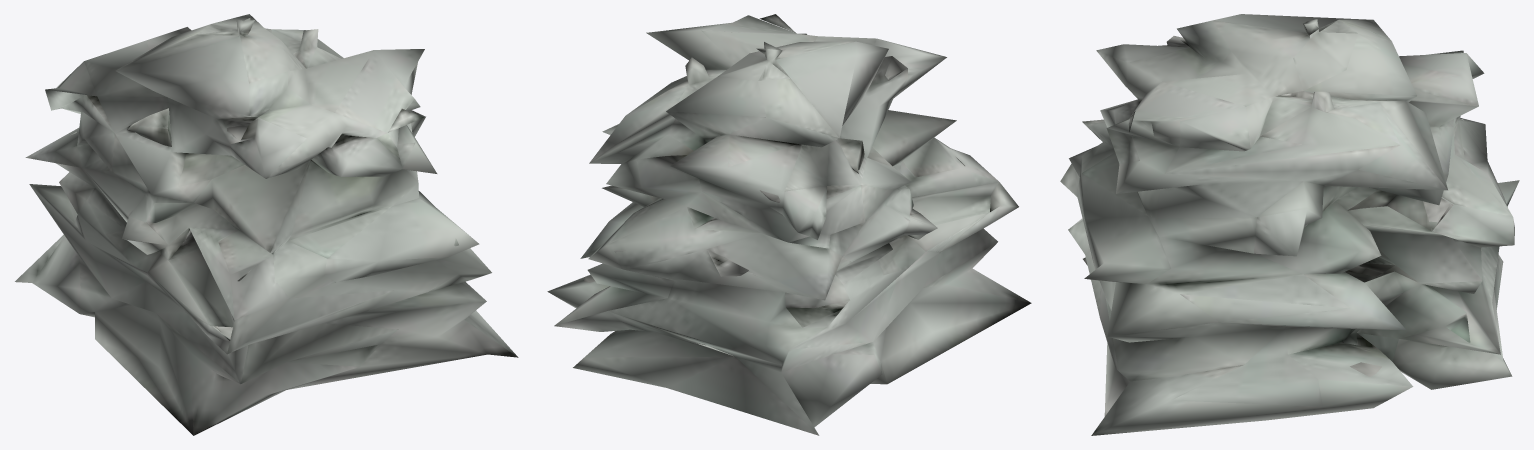
Rendered from prop3d-trashpile.glb.
3 views of the same model, side by side, from view 1: azimuth 30°, elevation 25°; view 2: azimuth 150°, elevation 25°; view 3: azimuth 270°, elevation 25° (orthographic). The views are drawn at different scales.
Bounding box in the file's own units: 1.79 × 1.56 × 2.
1 material, 1 textured.
